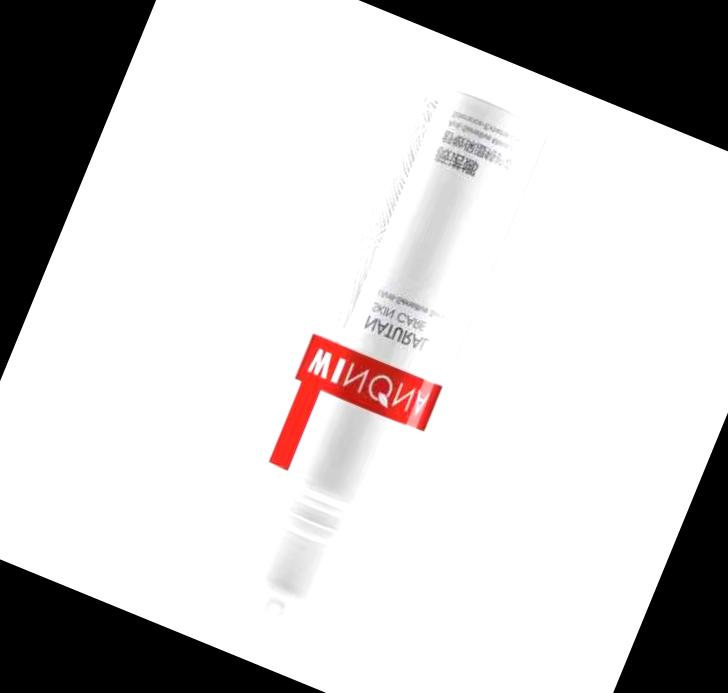cosmetic: (197, 69, 552, 661)
